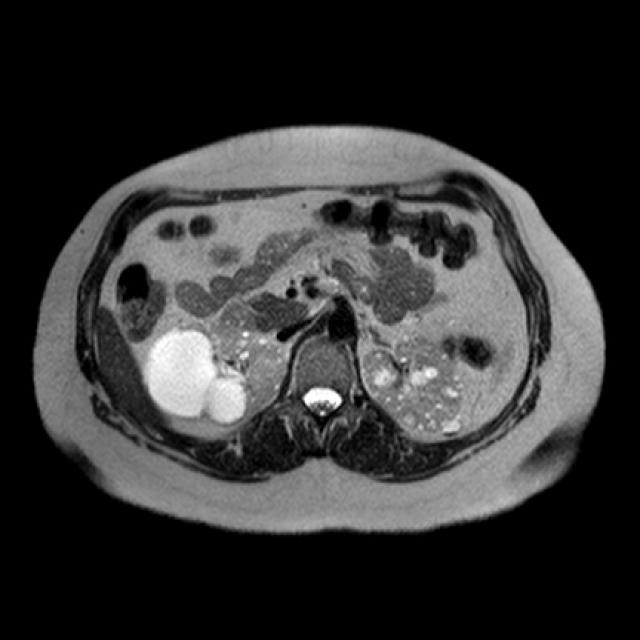sag: (143, 315, 288, 425)
sol: (363, 336, 464, 435)
